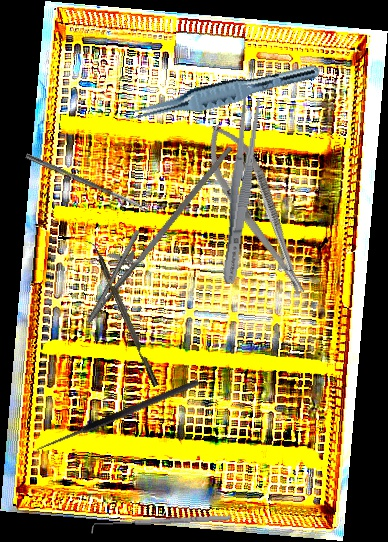Chopper: (83, 236, 159, 391)
Dressing Forceps: (217, 97, 264, 285)
Hook Surgical: (34, 377, 204, 462), (89, 513, 233, 534)
Needle Holder: (71, 122, 233, 339), (193, 115, 321, 305)
Surgical Spoon: (24, 153, 149, 213)
Tissue Forceps: (121, 52, 322, 134)
